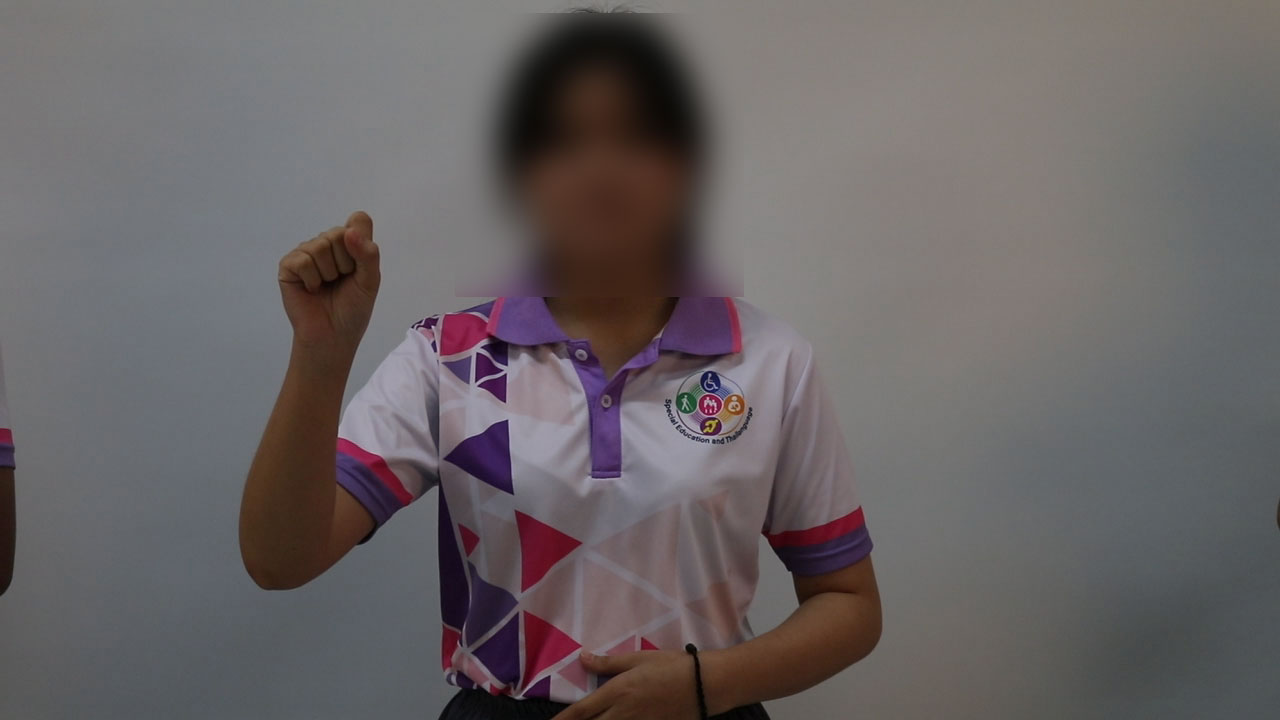sor: (264, 200, 394, 352)
